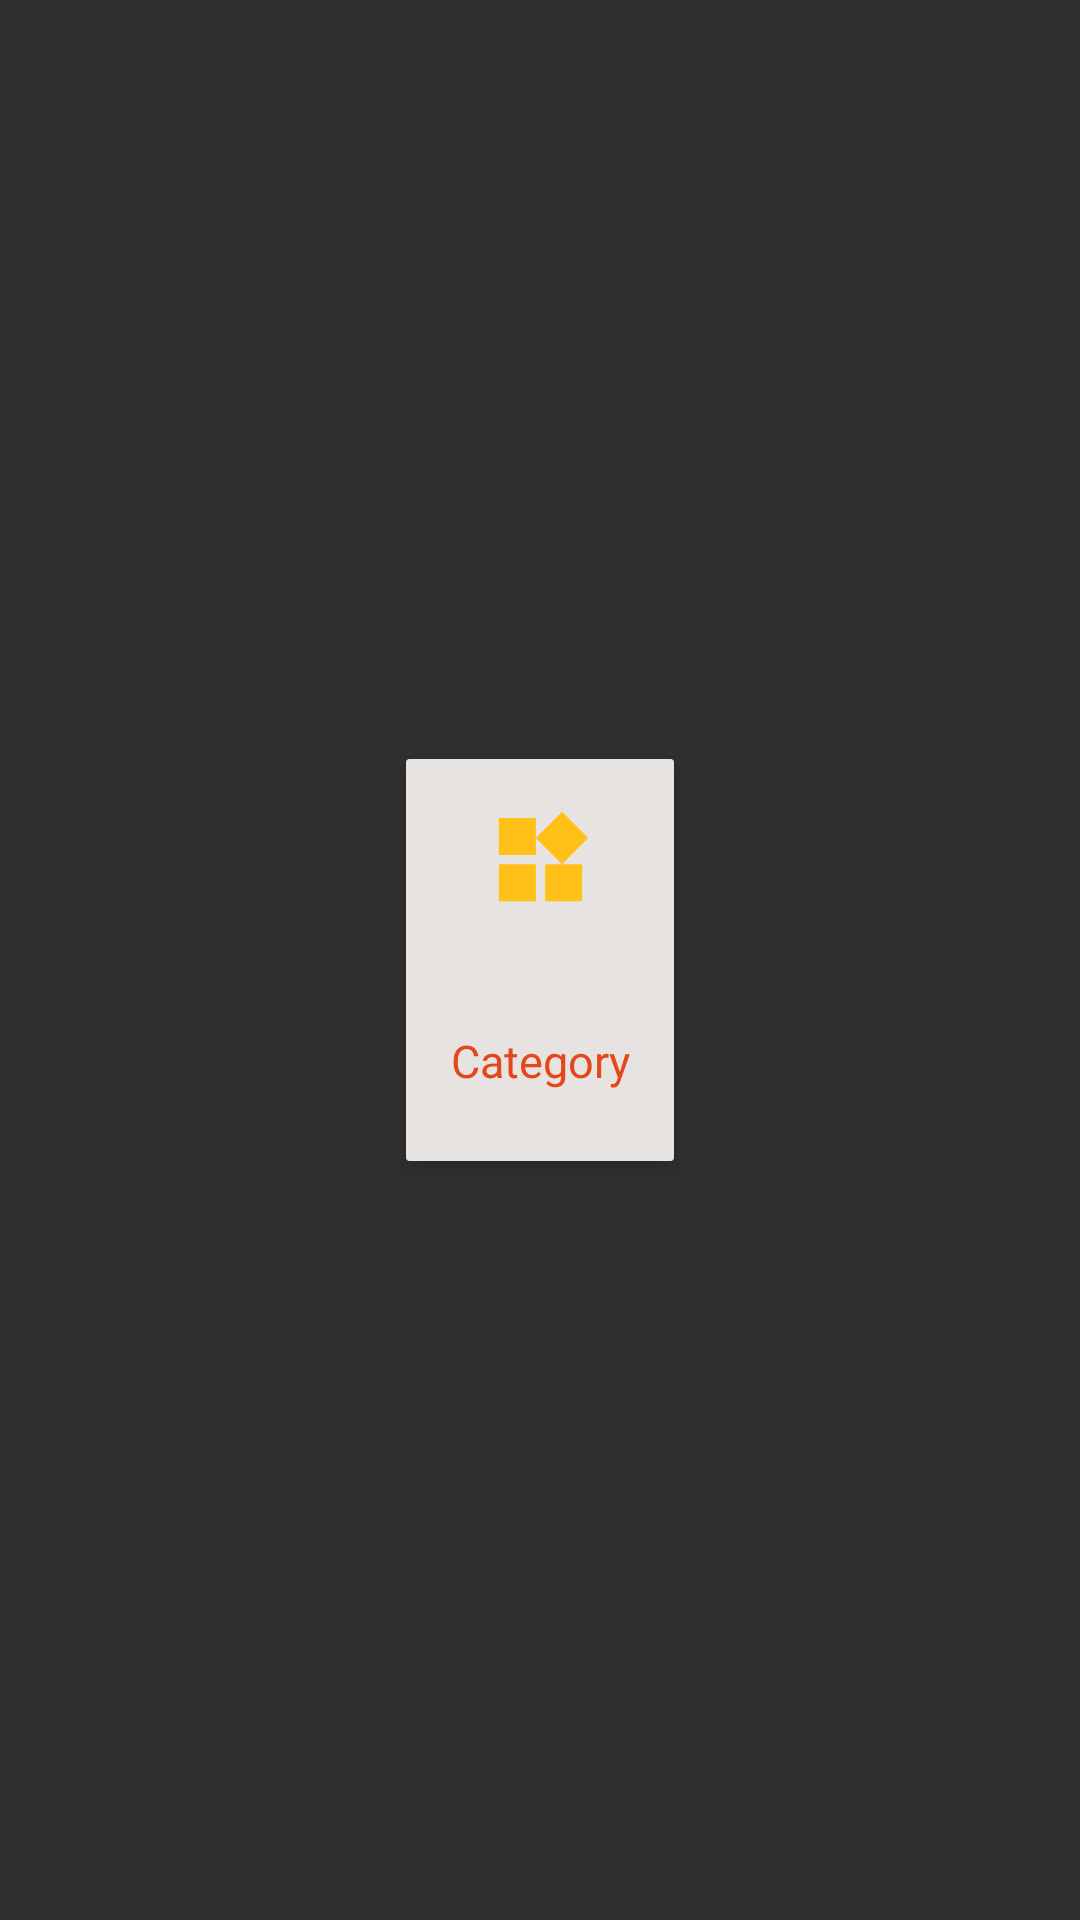

Screen size 1080px x 1920px. Icon name, then its center in pixels as (x=x, y=y):
widgets: (x=543, y=857)
